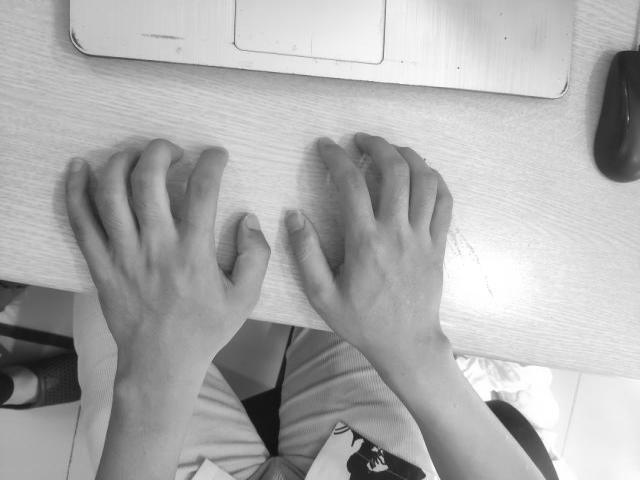not-gloved: (62, 135, 273, 335), (289, 132, 454, 326)
